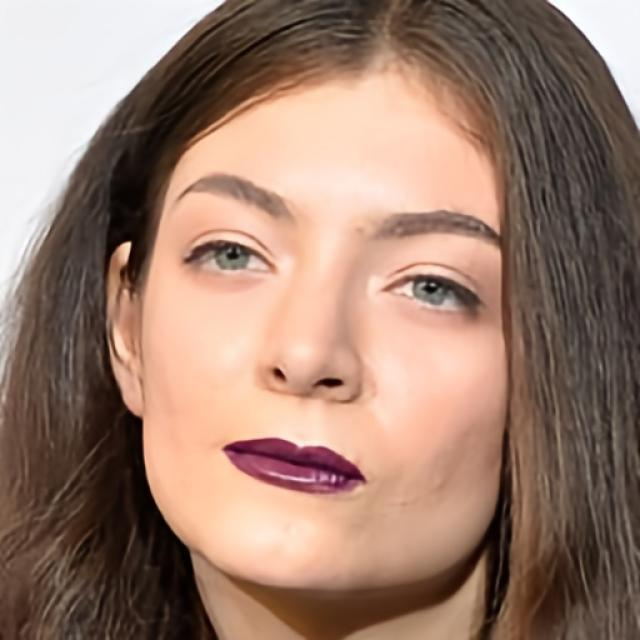neutral: (142, 65, 518, 605)
